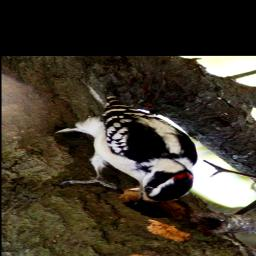Woodpecker: (55, 89, 197, 207)
